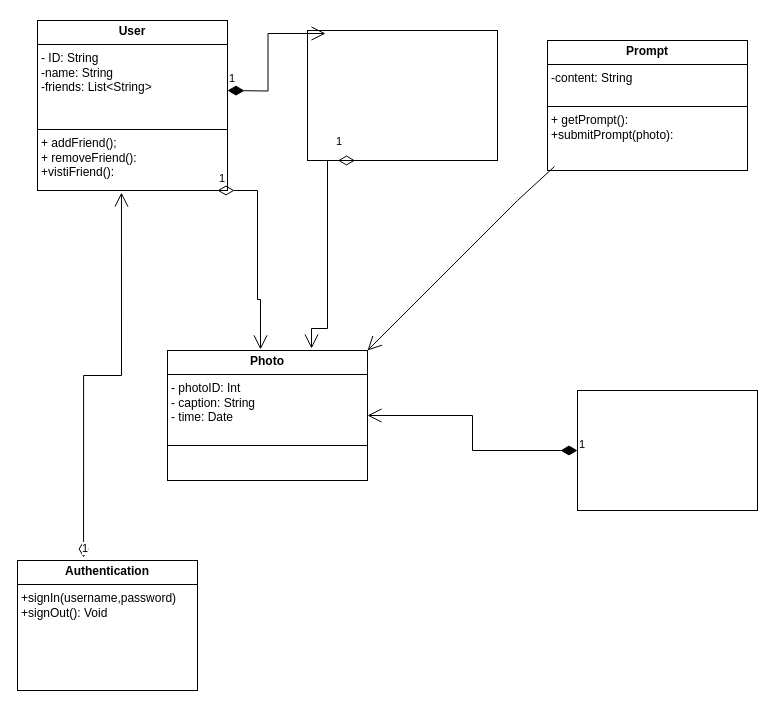
This 775x709 diagram has some shape labels left out. Here are the shapes that lost their labels. From the top down, the box of each, then its label:
(306, 30, 498, 160): StoryPage - user- String + displayStory():
(576, 390, 758, 510): TakePhoto +uploadPhoto() +removePhoto()
